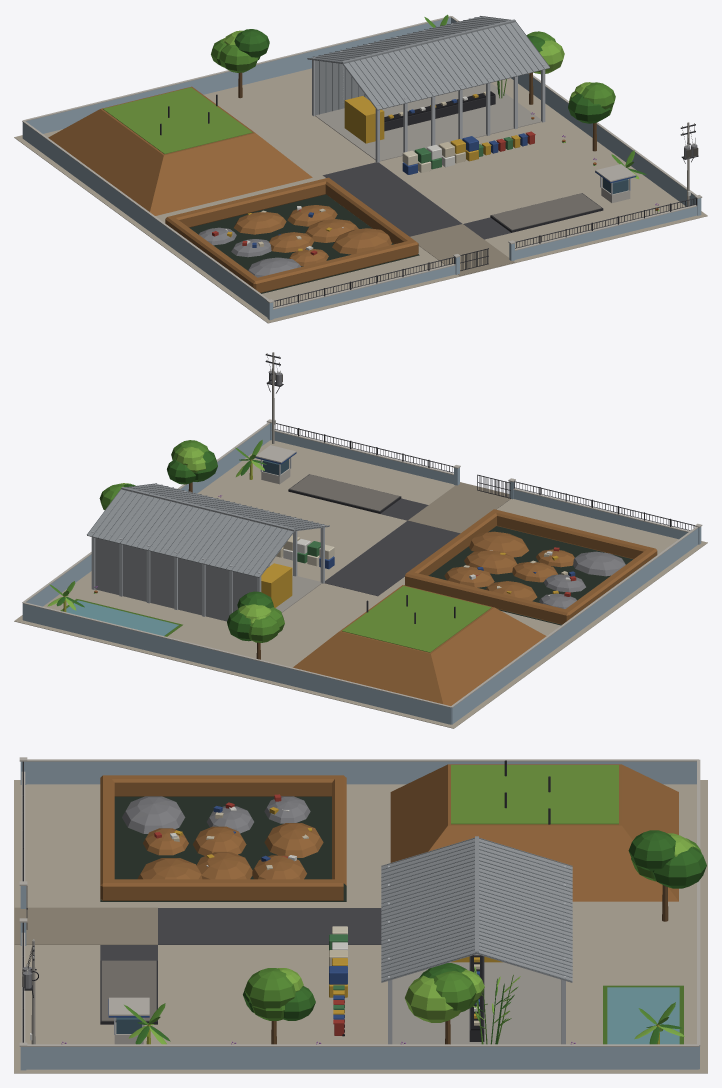
Rendered from waste.glb.
3 renders of one model, top to bottom at view 1: azimuth 30°, elevation 25°; view 2: azimuth 150°, elevation 25°; view 3: azimuth 270°, elevation 25°, orthographic. The views are drawn at different scales.
Parts seen in each view (by area): view 1: body; view 2: body; view 3: body.
Part boxes in pixels (bbox=[...]): body: bbox=[14, 14, 707, 323]; body: bbox=[14, 352, 707, 728]; body: bbox=[14, 757, 707, 1073].
Size of the model in its own units: 48.75 by 9.71 by 47.9.
